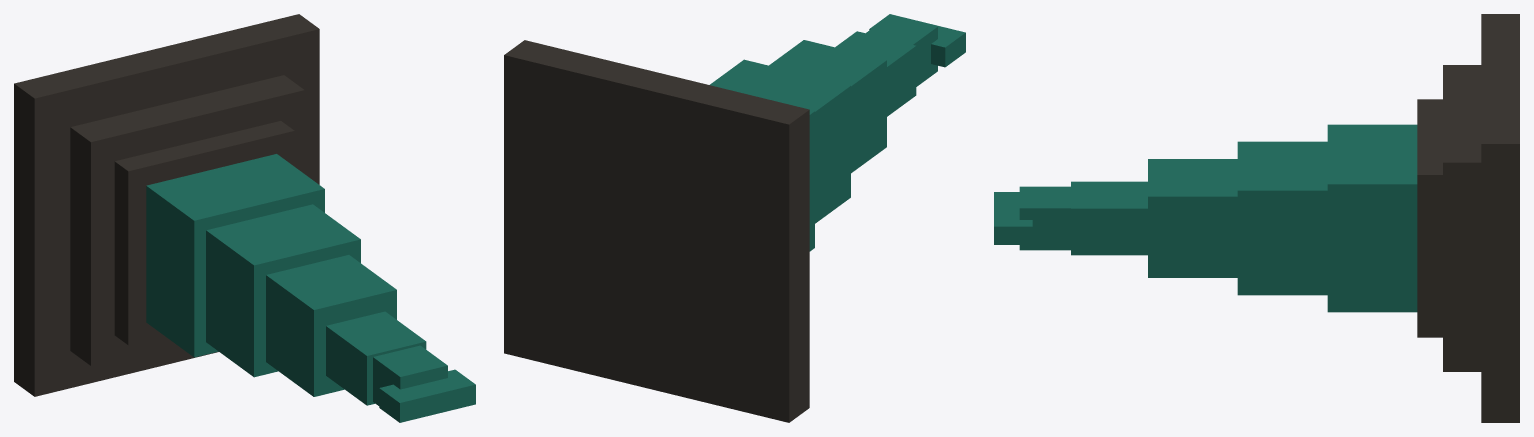
The model's file is SM_Inanna_Monument.obj.
3 views of the same model, side by side, from view 1: azimuth 30°, elevation 25°; view 2: azimuth 150°, elevation 25°; view 3: azimuth 270°, elevation 25° (orthographic). The views are drawn at different scales.
Parts seen in each view (by area): view 1: DarkBasalt, PatinaBronze; view 2: DarkBasalt, PatinaBronze; view 3: PatinaBronze, DarkBasalt.
Boxes of the visible parts, box(x1,y1,x2,y2) form: DarkBasalt: box(14, 14, 319, 396); PatinaBronze: box(146, 154, 475, 422); DarkBasalt: box(504, 40, 809, 422); PatinaBronze: box(710, 14, 965, 251); PatinaBronze: box(994, 124, 1417, 312); DarkBasalt: box(1417, 14, 1519, 422).
Bounding box in the file's own units: 240 × 240 × 410.
